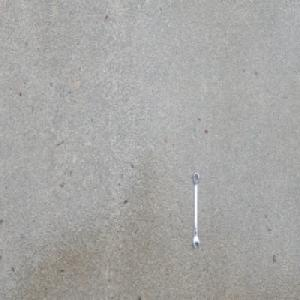Wrench: (192, 170, 200, 250)
